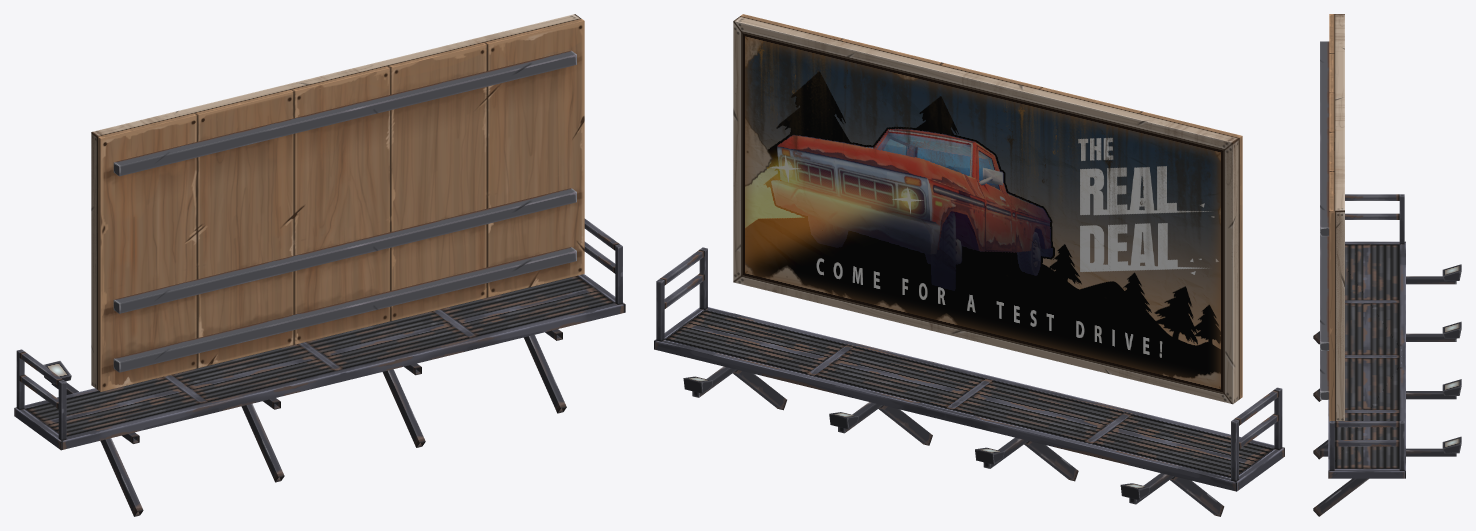
The model's file is SIN0210016.fbx.
The picture shows the model from 3 angles, left to right: view 1: azimuth 30°, elevation 25°; view 2: azimuth 150°, elevation 25°; view 3: azimuth 270°, elevation 25°; orthographic projection. The views are drawn at different scales.
Parts seen in each view (by area): view 1: smSIN0210016; view 2: smSIN0210016; view 3: smSIN0210016.
Boxes of the visible parts, x1,y1,x2,y2 form: smSIN0210016: (14,14,625,516); smSIN0210016: (654,14,1284,516); smSIN0210016: (1313,14,1461,516).
Size of the model in its own units: 700 by 451 by 191.
1 material, 1 textured.
